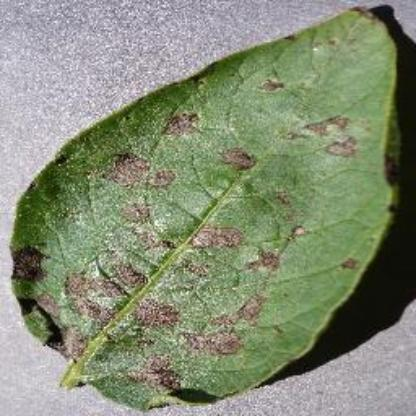Early-Blight: (13, 4, 407, 410)
